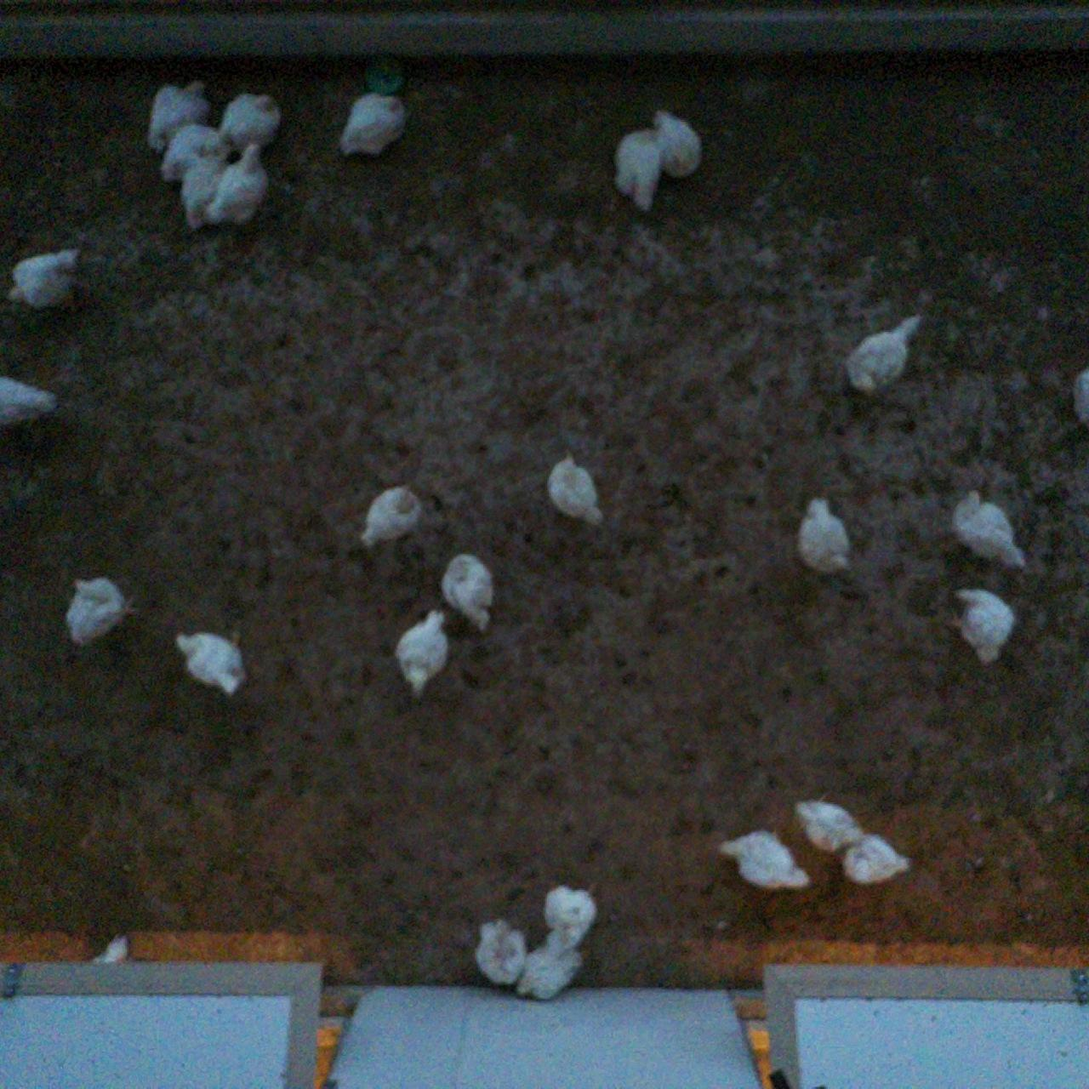chicken: (711, 821, 812, 901), (56, 570, 141, 662), (947, 483, 1033, 573), (842, 311, 927, 402), (5, 243, 91, 322), (389, 604, 459, 701), (167, 621, 252, 699), (138, 75, 215, 160), (331, 88, 416, 163), (787, 490, 856, 582), (946, 581, 1017, 669), (210, 139, 275, 231), (175, 140, 242, 229), (541, 445, 611, 527), (355, 476, 426, 555), (608, 124, 667, 217), (439, 549, 503, 633), (785, 791, 865, 858), (469, 910, 534, 991), (509, 938, 586, 1004), (159, 123, 238, 187), (540, 876, 604, 949), (650, 105, 709, 184), (837, 826, 911, 888), (0, 371, 59, 442), (1068, 361, 1089, 433)
